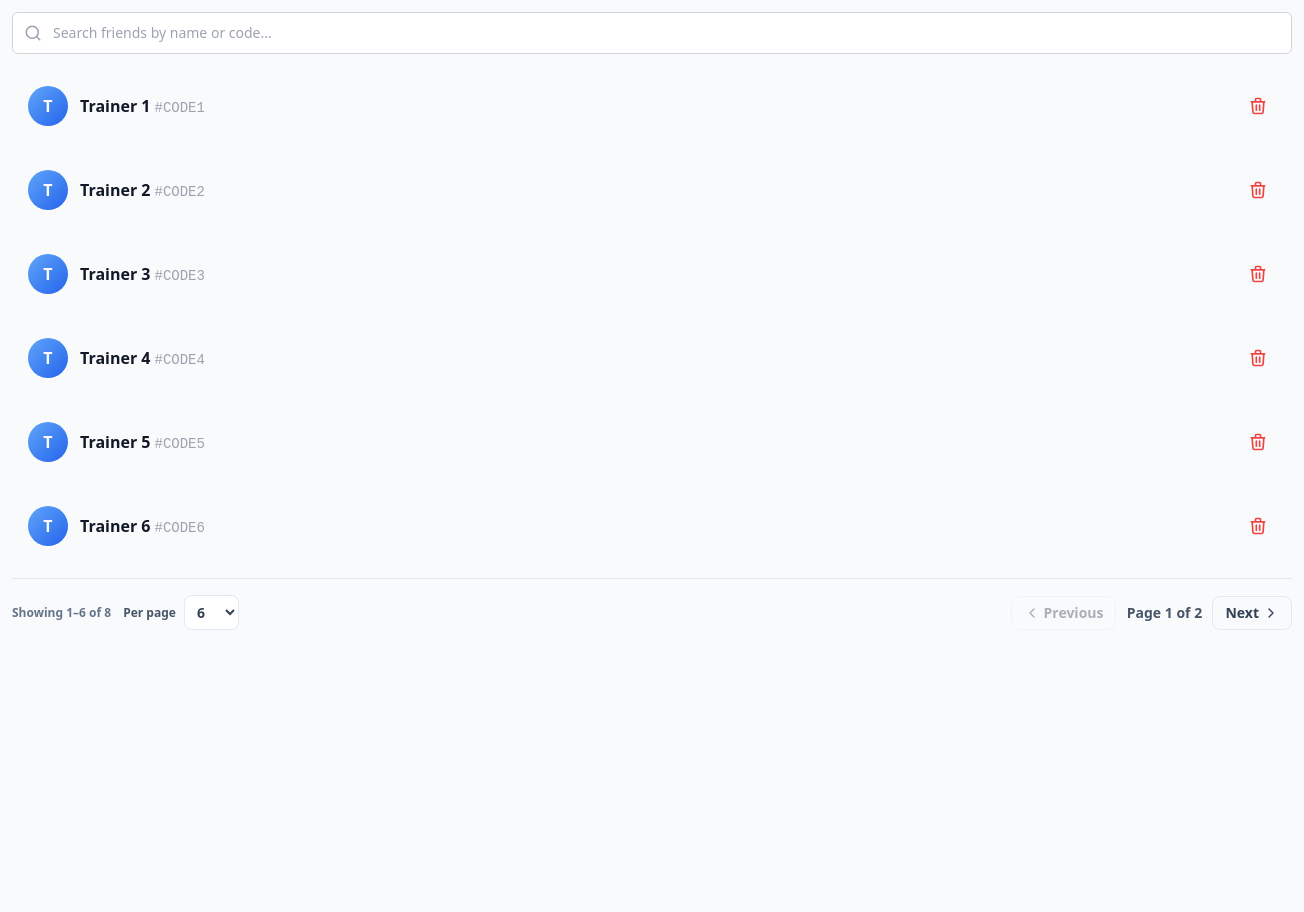
FriendsList search and pagination › filters by name or friend code and resets pagination
Click the button with aria-label "Next friends page" at (1252, 612), box [1212,596,1292,630]
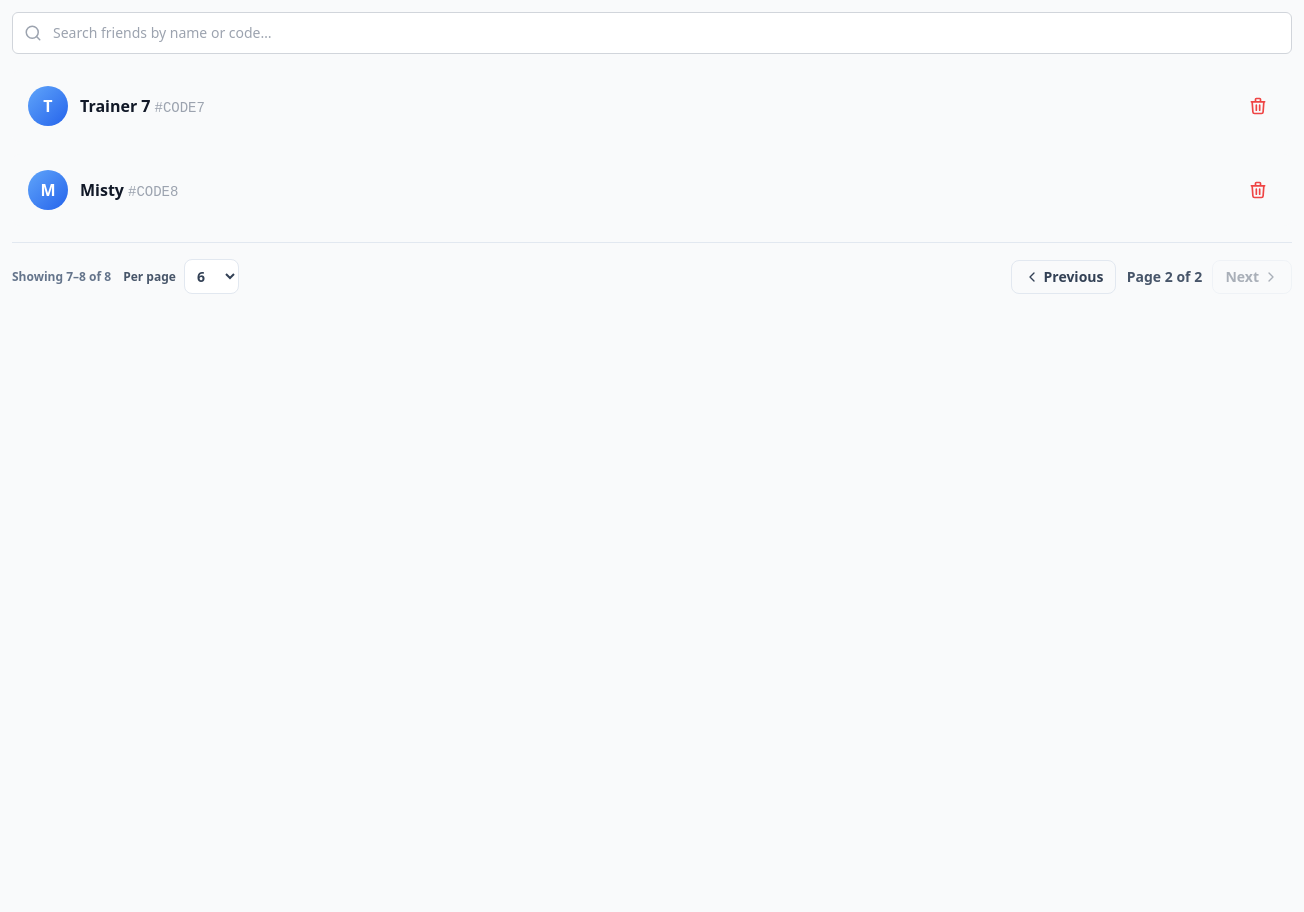
Type "trainer 1" into the search field labelled "Search friends" at (652, 33), box [12,12,1292,54]
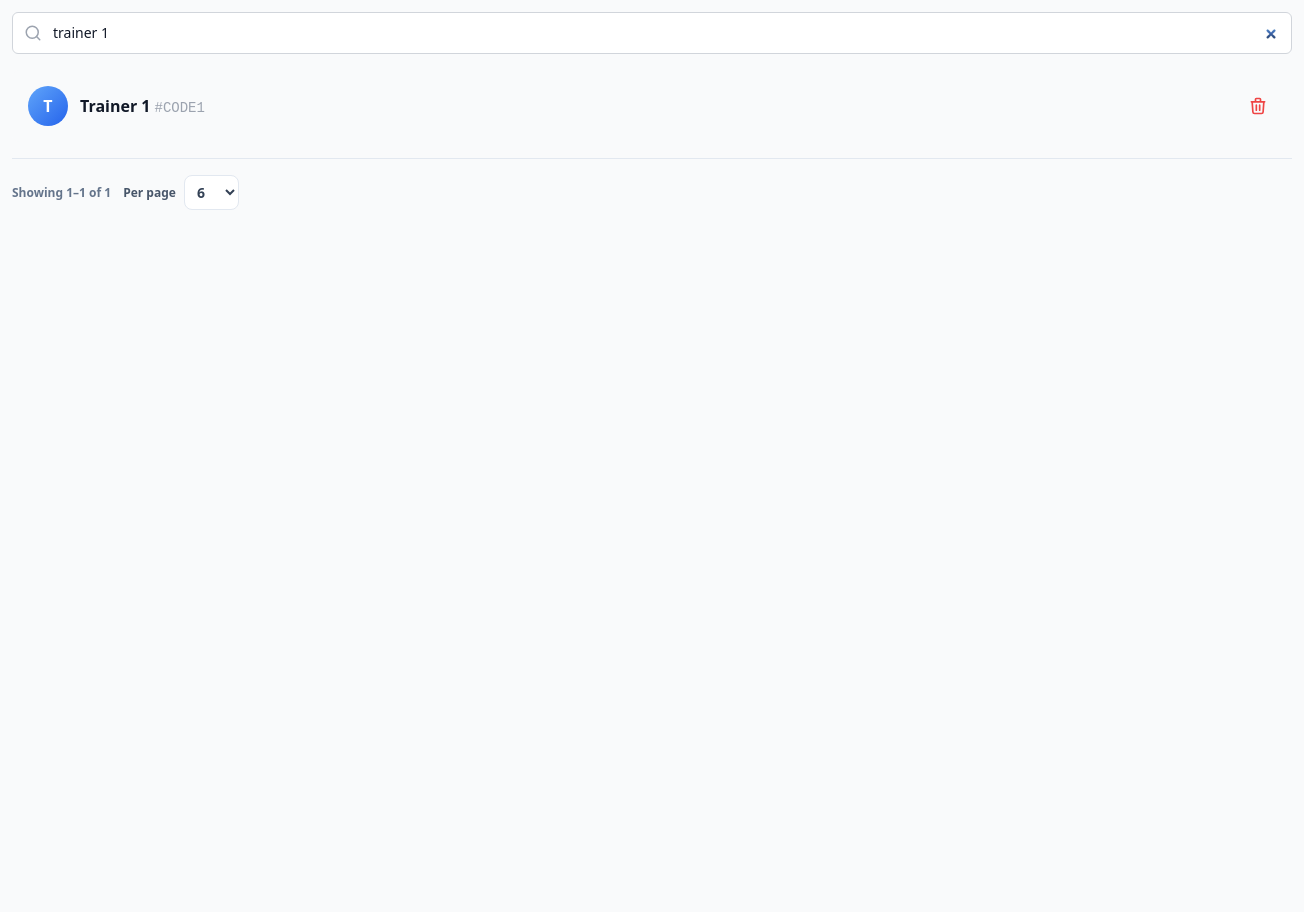
Expected: the text "Trainer 1" is shown, [80,95,150,117]
Replace the text in the search field named "Search friends" with "#CODE8" at (652, 33), box [12,12,1292,54]
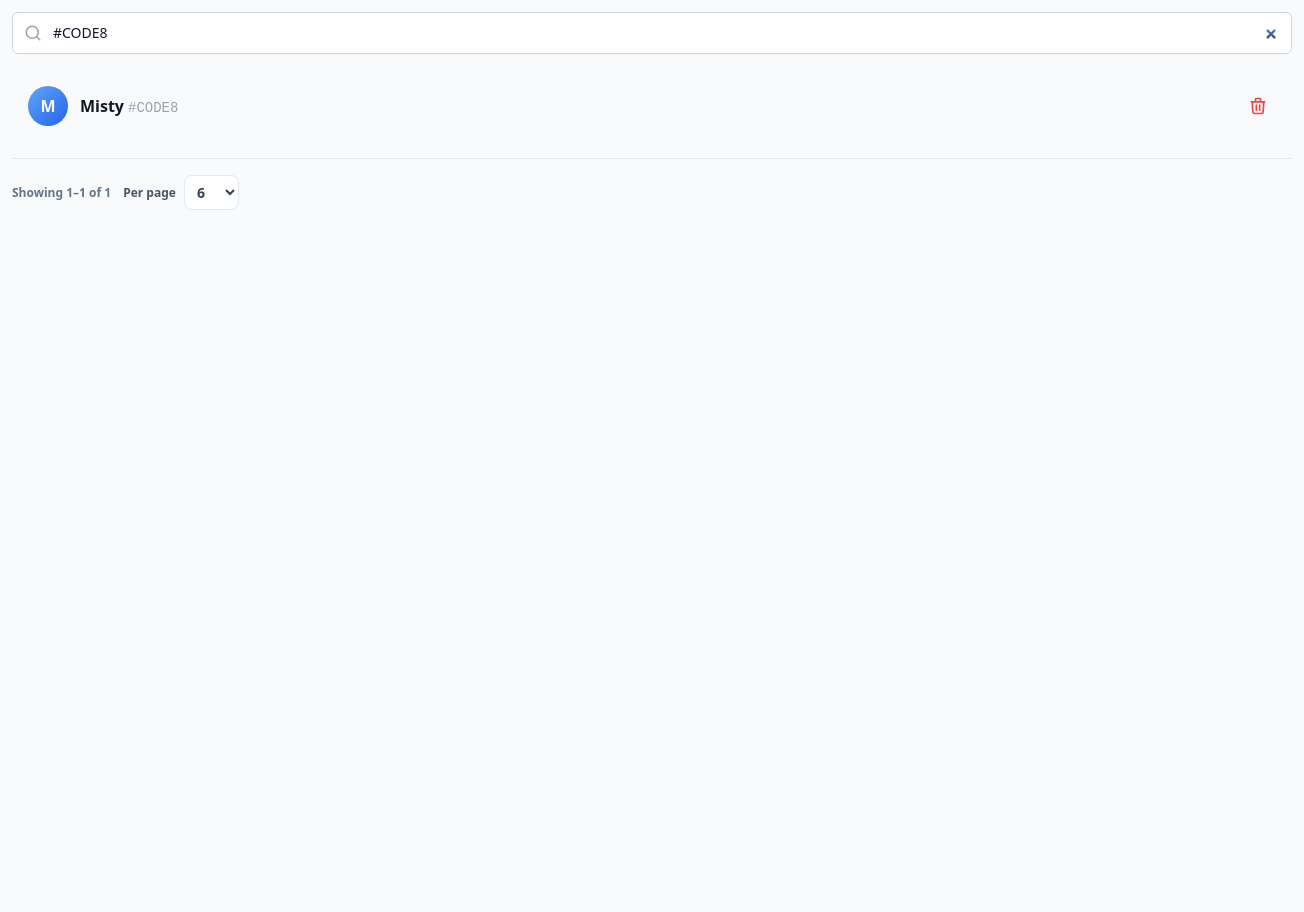
Expected: the text "Misty" is shown, [80,95,124,117]
Replace the text in the search field named "Search friends" with "Brock" at (652, 33), box [12,12,1292,54]
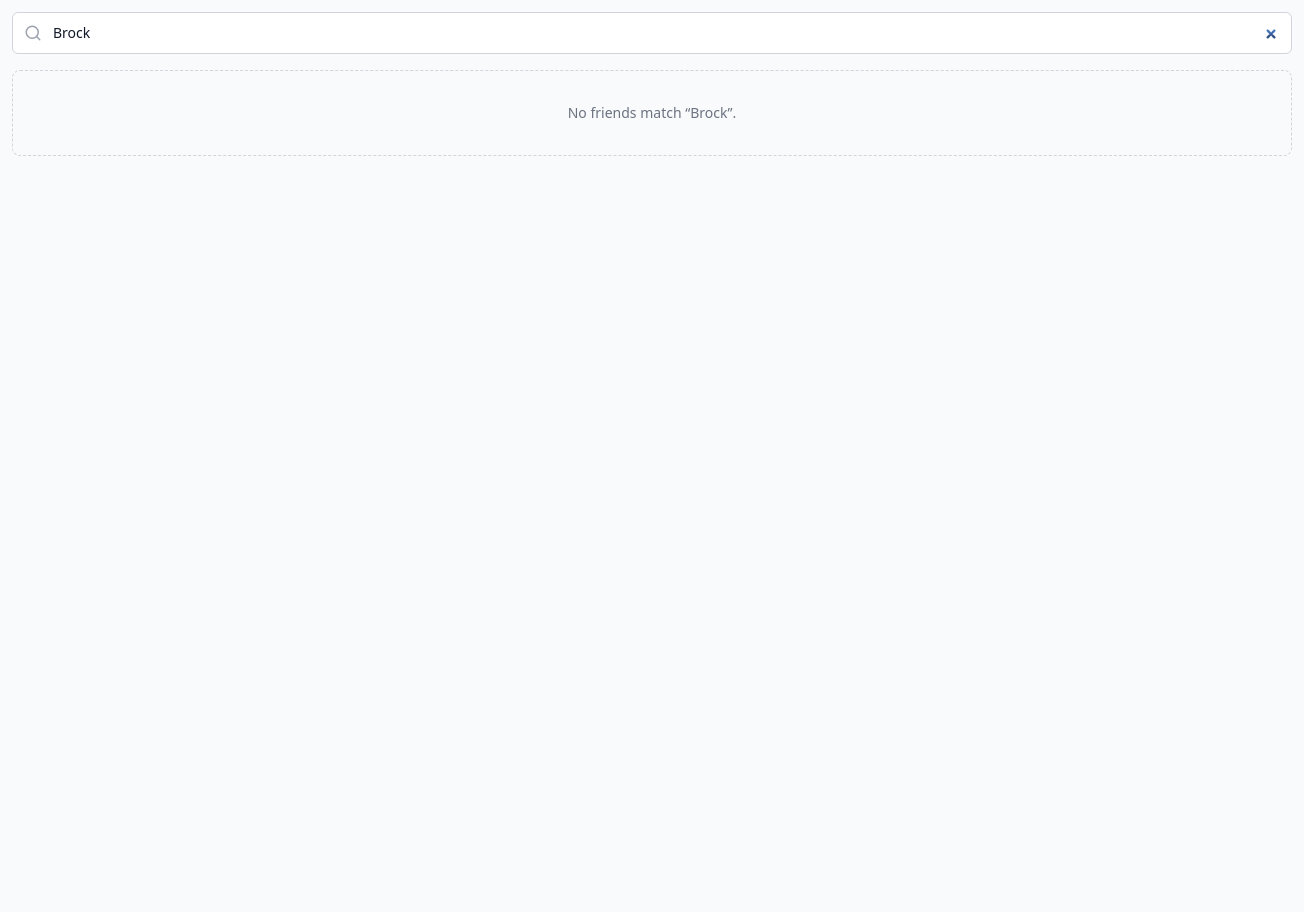
Expected: the text "No friends match “Brock”." is shown, [12,70,1292,156]
